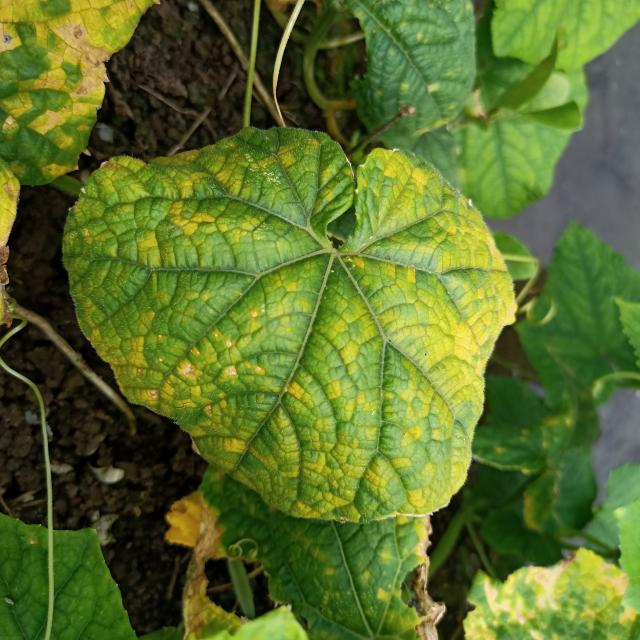disease_cucumber: (70, 148, 516, 516)
